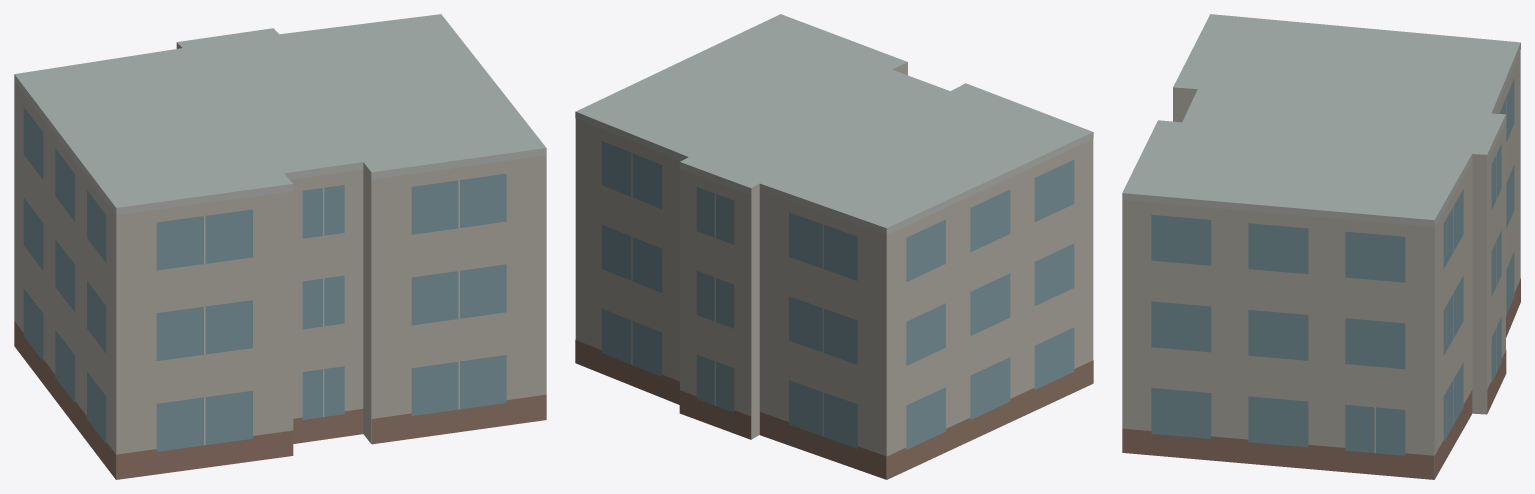
File: survey-upis-32758946.glb
The picture shows the model from 3 angles, left to right: view 1: azimuth 30°, elevation 25°; view 2: azimuth 150°, elevation 25°; view 3: azimuth 270°, elevation 25°; orthographic projection. The views are drawn at different scales.
Visible parts, largest first — view 1: survey-upis-32758946.tmp; view 2: survey-upis-32758946.tmp; view 3: survey-upis-32758946.tmp.
Part boxes in pixels (x1,y1,x2,y2): survey-upis-32758946.tmp: (14,14,546,479); survey-upis-32758946.tmp: (575,14,1093,479); survey-upis-32758946.tmp: (1122,14,1520,479).
Bounding box in the file's own units: 15.59 × 9.15 × 12.74.
